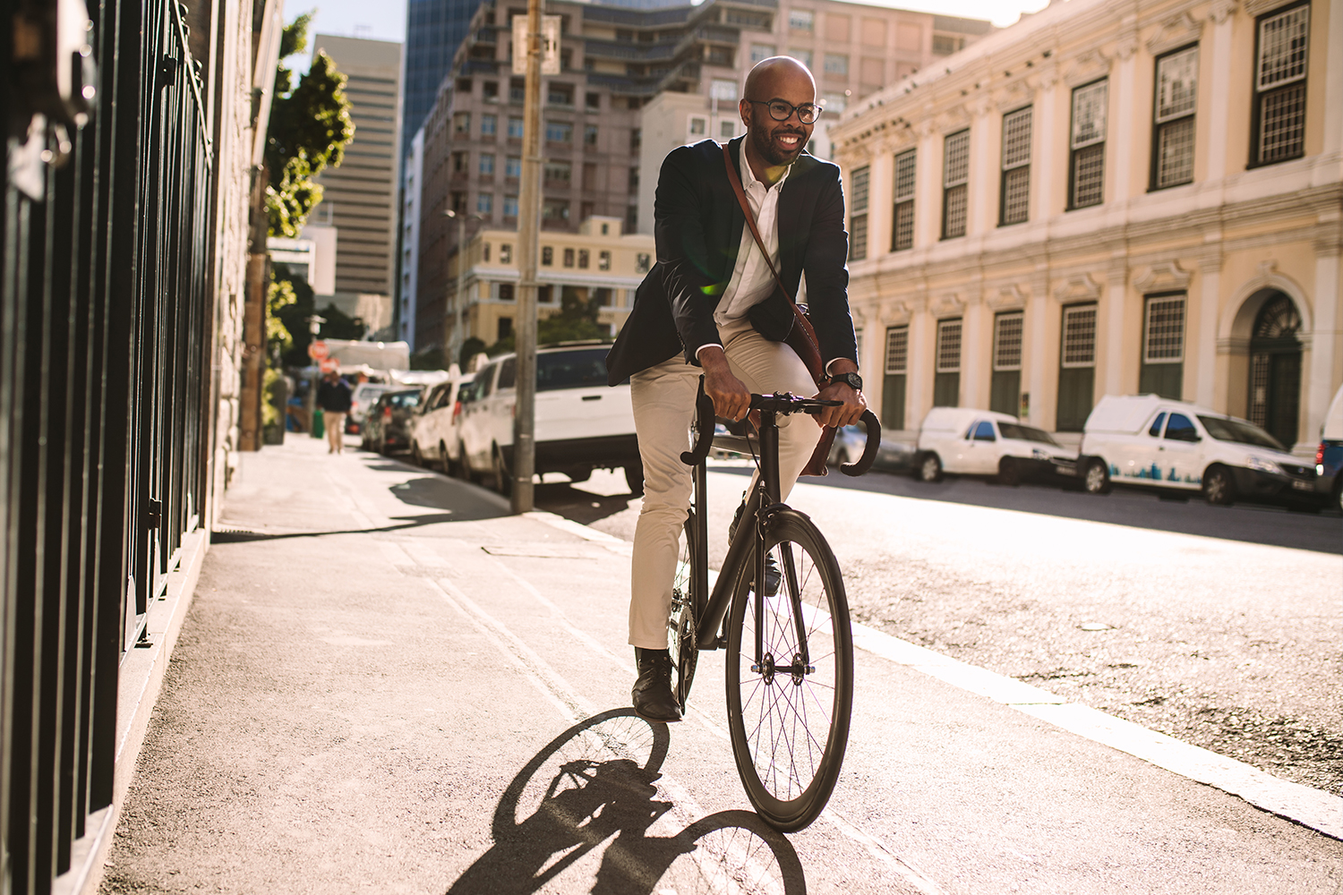Bicycle: (657, 371, 890, 843)
Car: (1069, 382, 1329, 505), (912, 402, 1083, 486)
Person: (600, 59, 898, 521), (311, 364, 367, 456)
